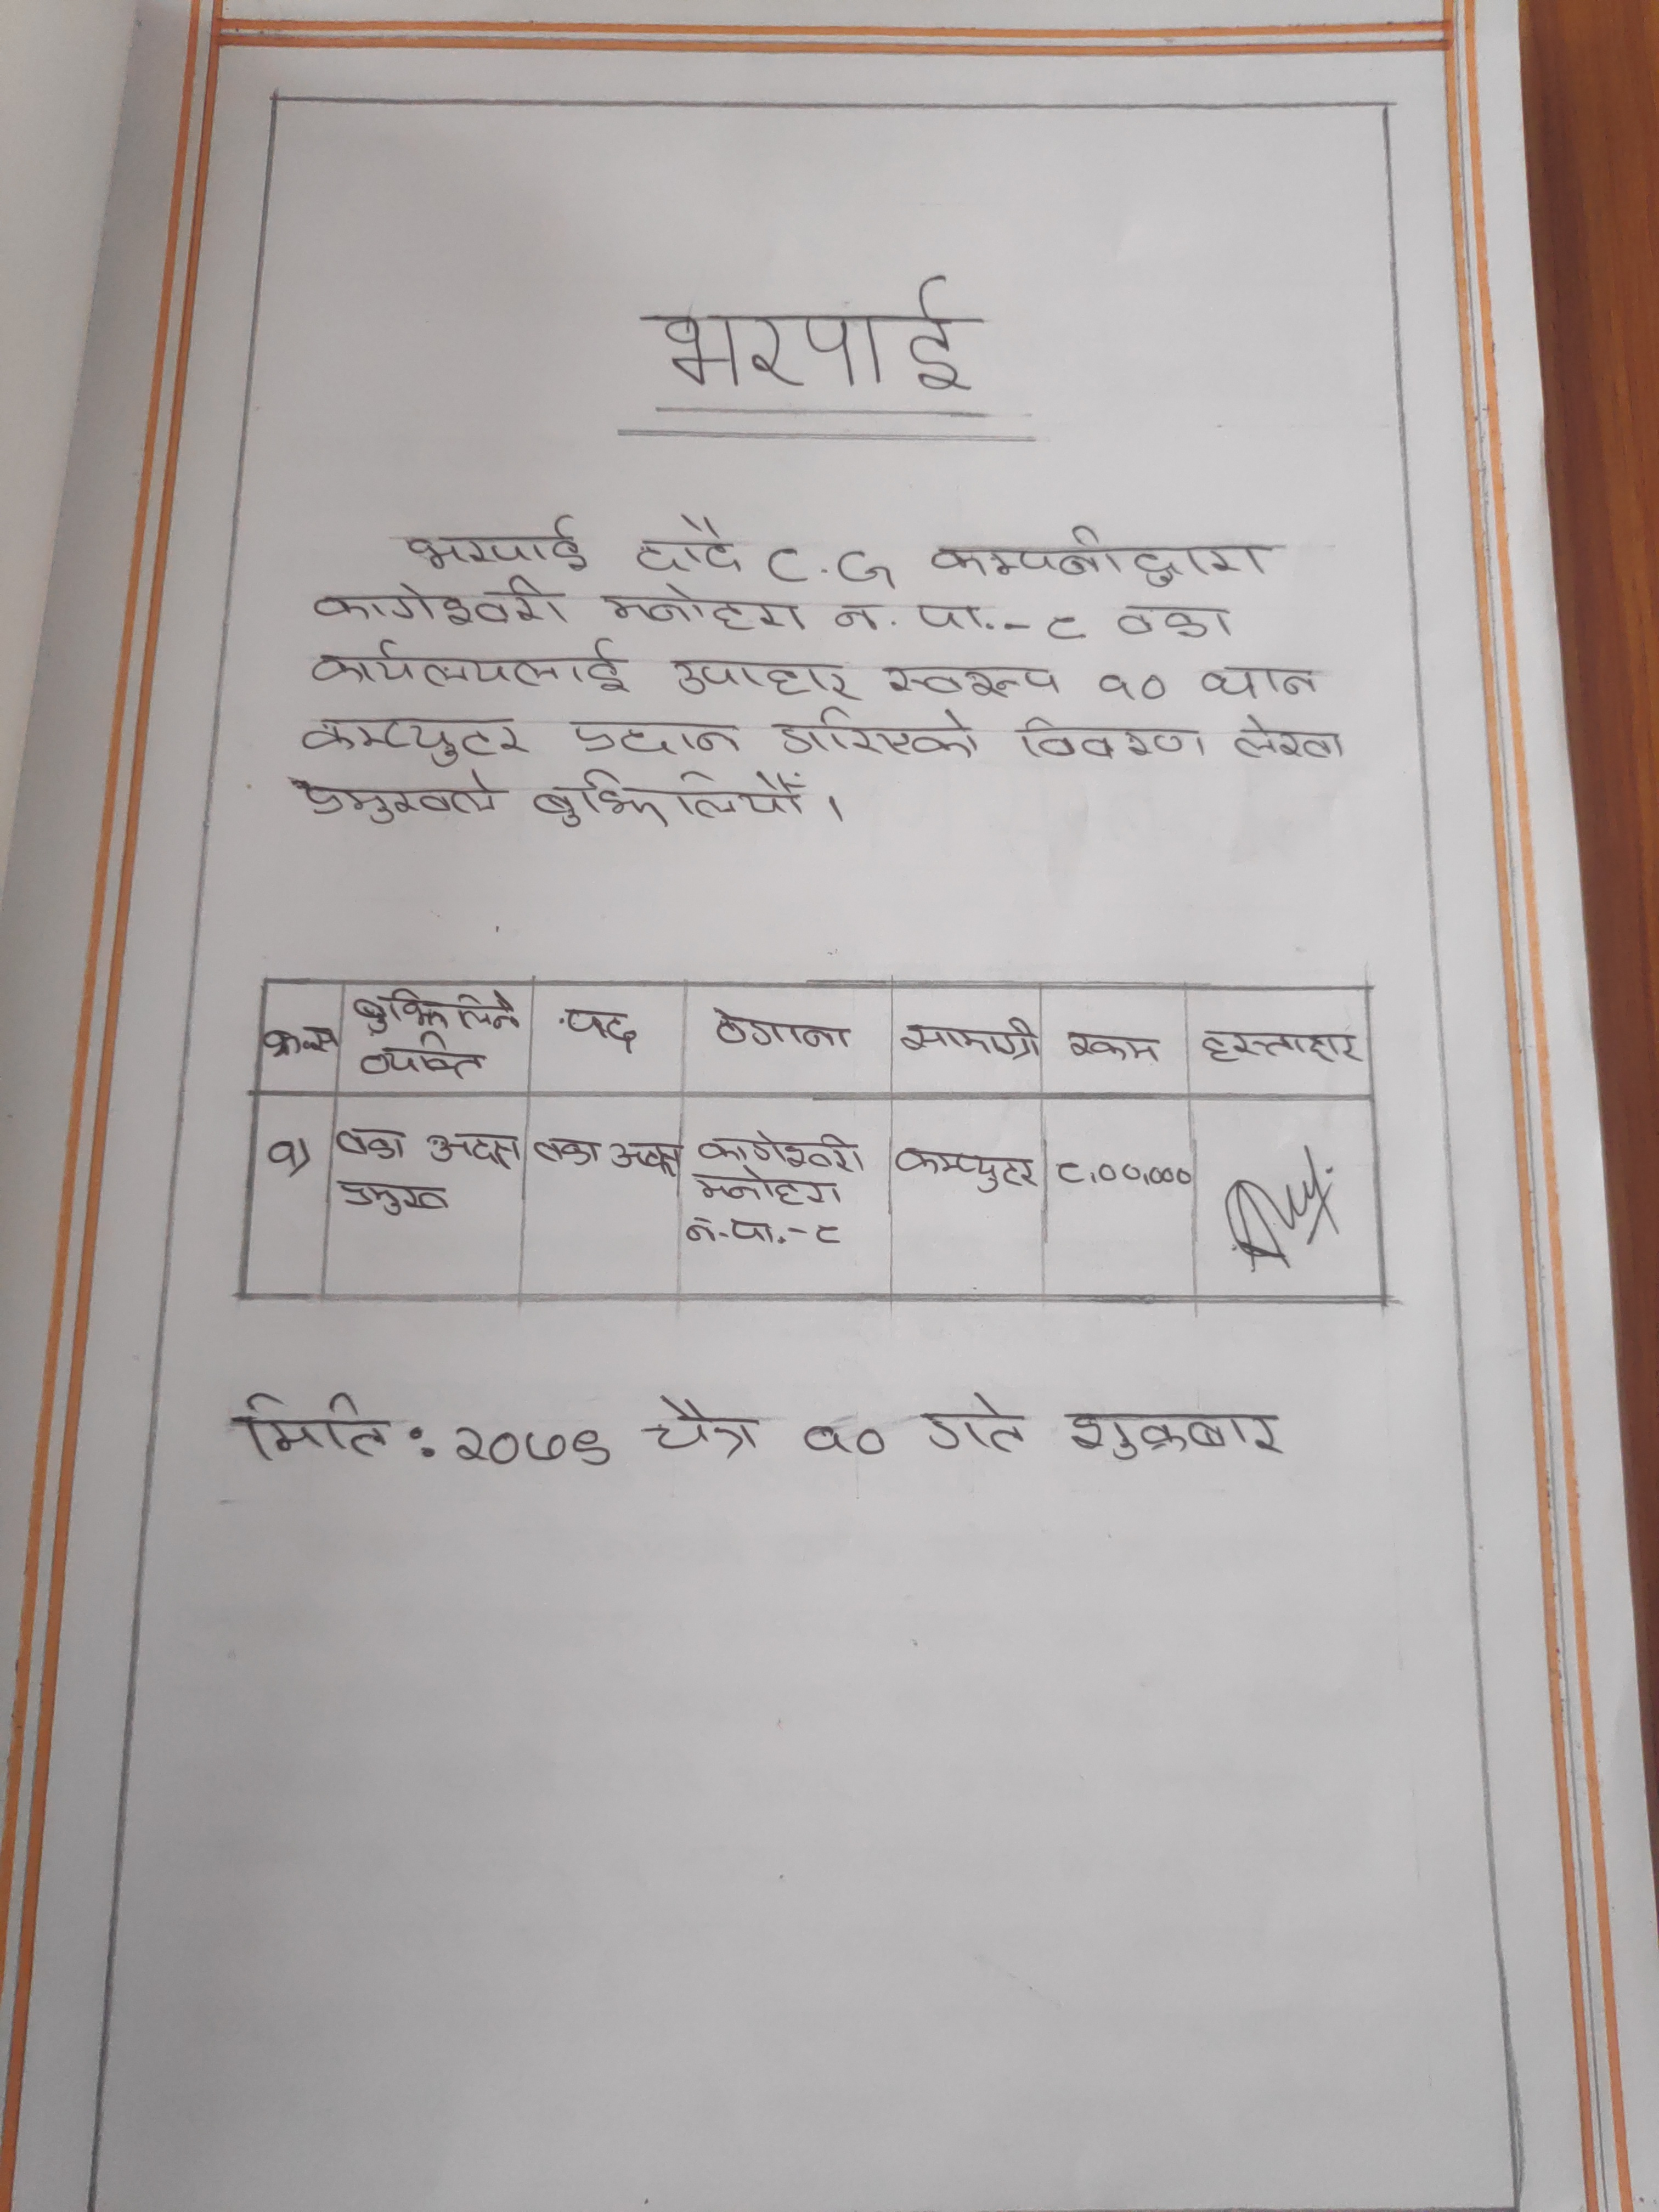text: (641, 273, 992, 401), (929, 523, 1274, 590), (532, 763, 817, 831), (307, 639, 634, 695), (305, 573, 575, 637), (286, 759, 505, 826), (1011, 700, 1215, 768), (770, 700, 985, 765), (1061, 1404, 1288, 1465), (308, 707, 526, 770), (223, 1390, 396, 1467), (399, 514, 592, 577), (591, 580, 810, 634), (669, 646, 861, 707), (441, 1418, 622, 1475), (870, 651, 1068, 702), (558, 712, 751, 759), (347, 984, 519, 1033), (1195, 1024, 1368, 1073), (826, 590, 990, 641), (697, 1125, 866, 1174), (709, 1005, 852, 1062), (889, 1141, 1039, 1195), (1100, 590, 1244, 646), (352, 1029, 491, 1087), (697, 1162, 861, 1211), (899, 1012, 1039, 1068), (1222, 709, 1349, 770), (647, 1395, 765, 1460), (629, 512, 744, 577), (920, 1390, 1032, 1456), (1192, 658, 1328, 704), (1054, 1021, 1169, 1073), (335, 1174, 451, 1219), (1049, 1153, 1192, 1188), (554, 998, 648, 1050), (798, 1418, 892, 1463), (683, 1209, 781, 1251), (429, 1127, 519, 1170), (612, 1130, 687, 1181), (1094, 664, 1175, 709), (329, 1120, 410, 1165), (528, 1129, 606, 1172), (1042, 603, 1101, 653), (260, 1026, 345, 1059), (261, 1136, 301, 1177), (812, 1217, 845, 1251)
